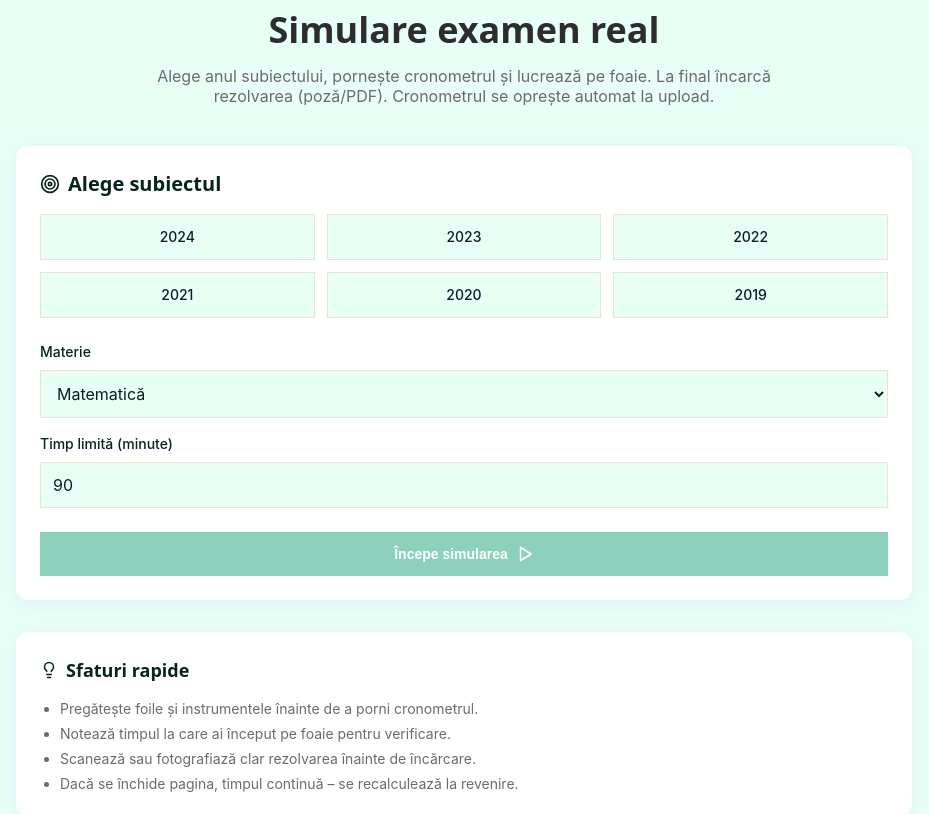
Scenario: SimulareExamen timer logic › stops at zero
The width and height of the screenshot is (929, 814).
What coordinates should you click on to do the following:
click the button "2024"
I would click on:
 (177, 237)
Its box is [40, 214, 315, 260].
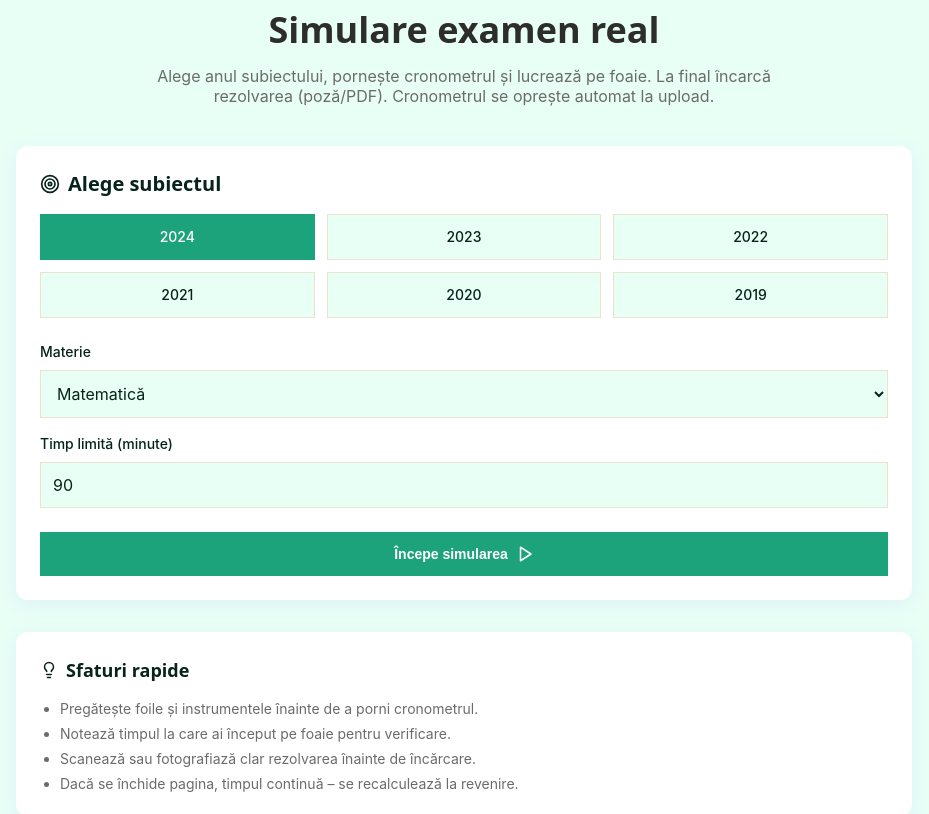
What coordinates should you click on to do the following:
click the button "Începe simularea"
I would click on:
 (464, 554)
Its box is [40, 532, 888, 576].
Wait 1500 ms
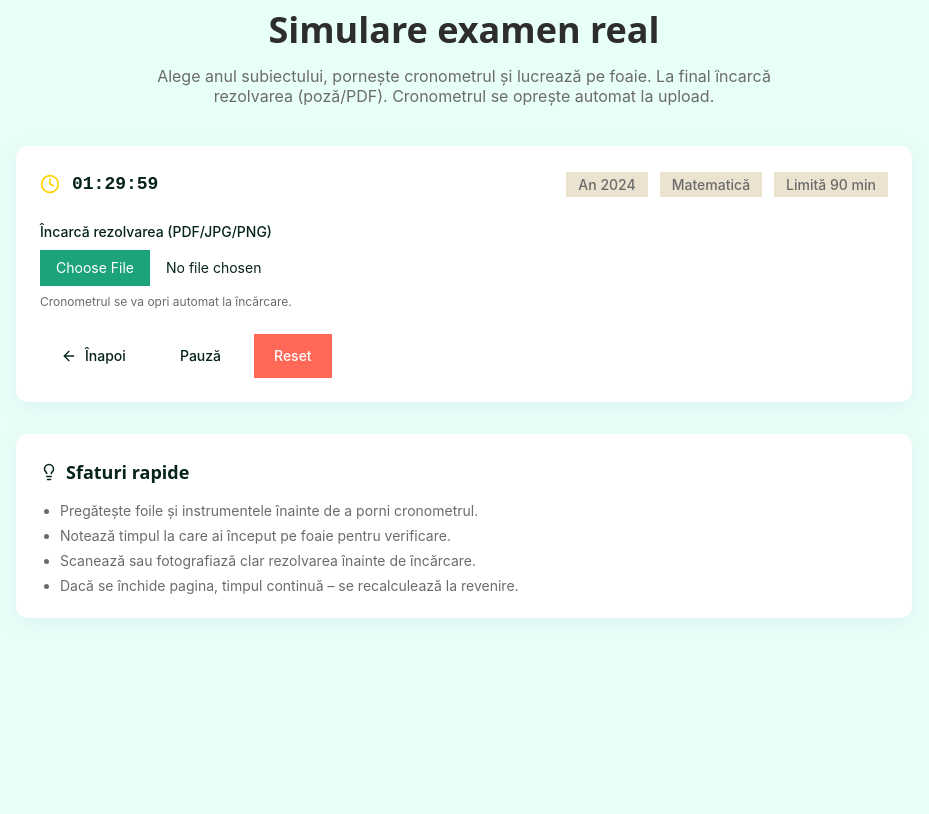
Expected: the text "01:29:59" is shown, [72, 170, 158, 198]
